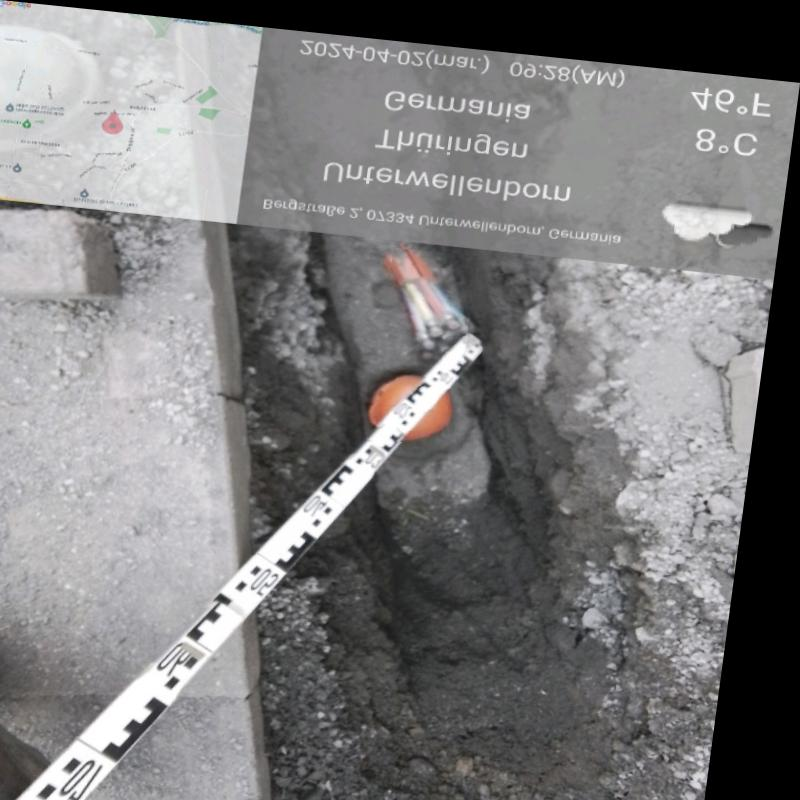Kugelmarker: (376, 365, 460, 432)
Orang-Speednetrohrchen: (397, 240, 476, 349)
